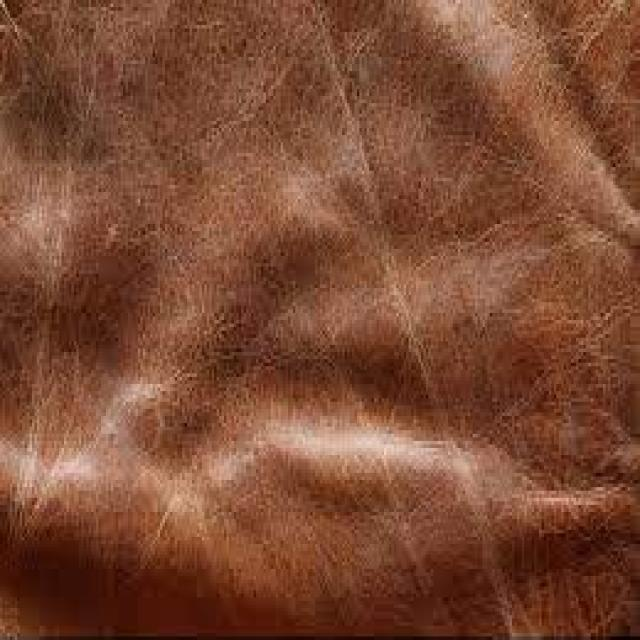Crease: (315, 235, 598, 384), (292, 421, 550, 569), (21, 421, 189, 584), (29, 180, 158, 342)
